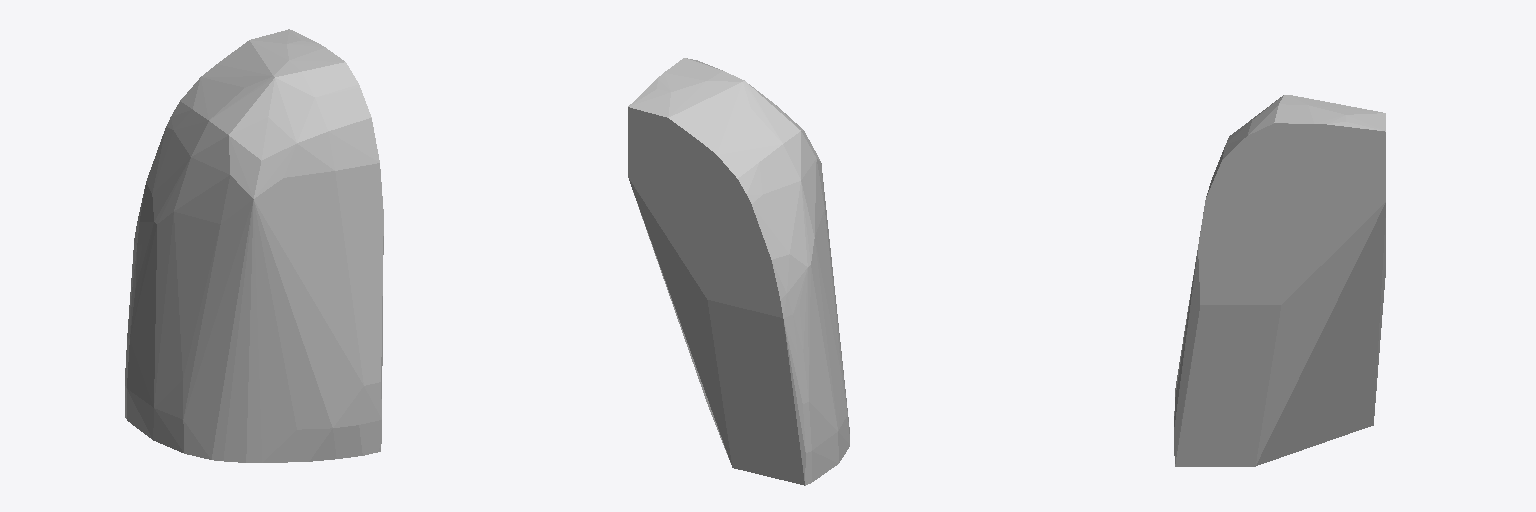
File: phantom-elastrat_collision_539.obj
3 views of the same model, side by side, from view 1: azimuth 30°, elevation 25°; view 2: azimuth 150°, elevation 25°; view 3: azimuth 270°, elevation 25° (orthographic).
Bounding box in the file's own units: 0.0043 × 0.0084 × 0.0046.